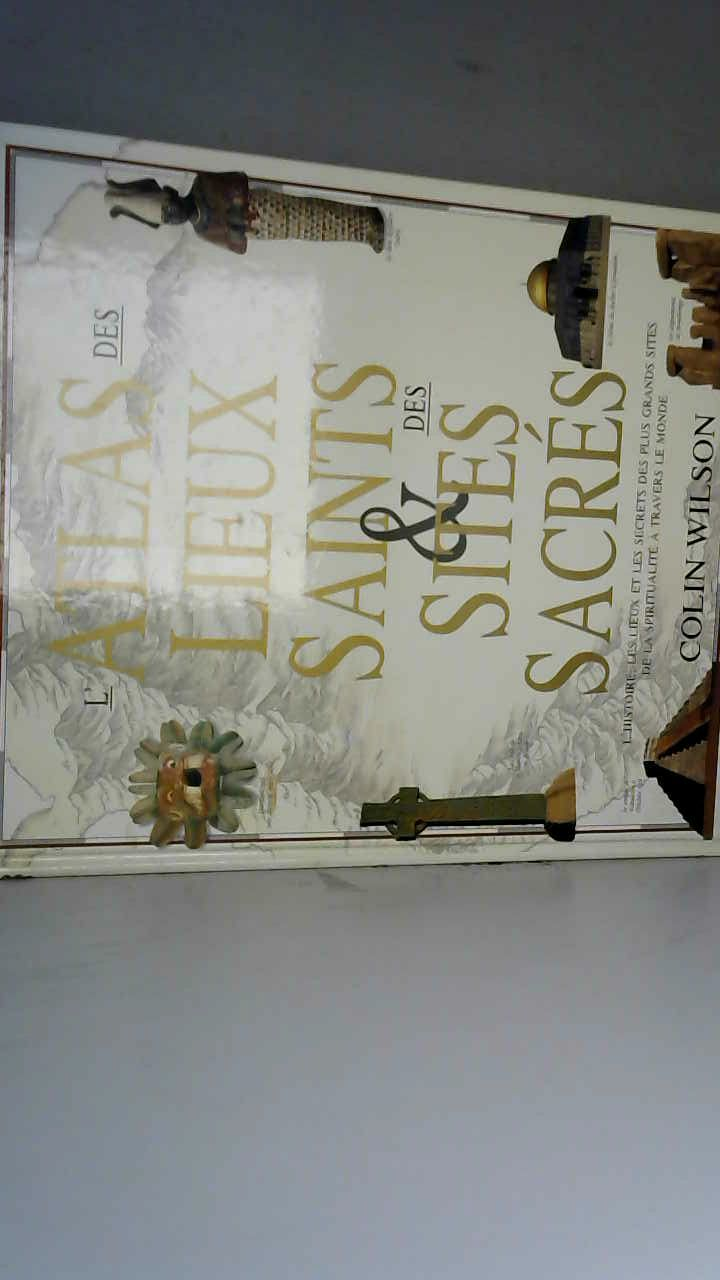book: (0, 105, 720, 896)
